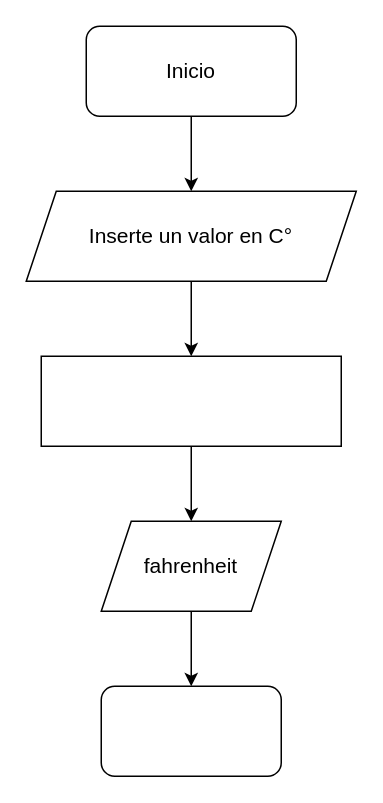
The diagram is 383 pixels wide and 803 high, and some of its shapes have lost their labels. Here are the shapes that lost their labels. From the top down, the centre of each, then its label:
At point 190,400: "fahrenheit = n * (9 / 5) + 32".
At point 190,730: "Fin".
